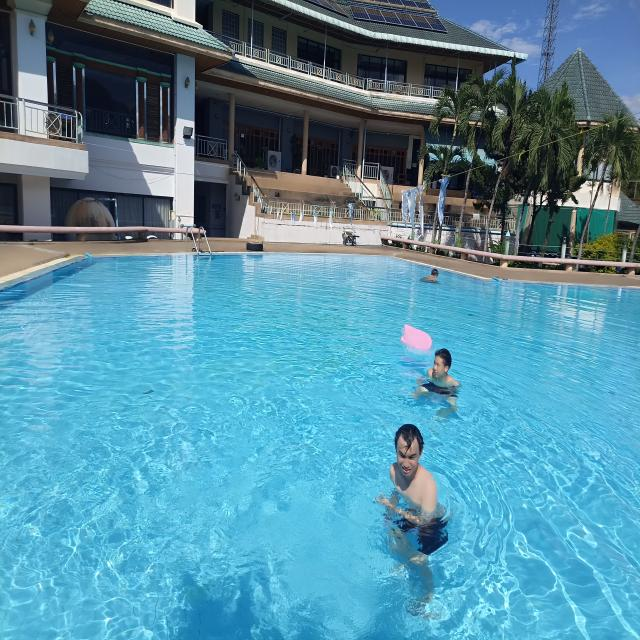Swimming: (364, 422, 463, 559), (415, 350, 473, 405), (410, 262, 460, 296)
